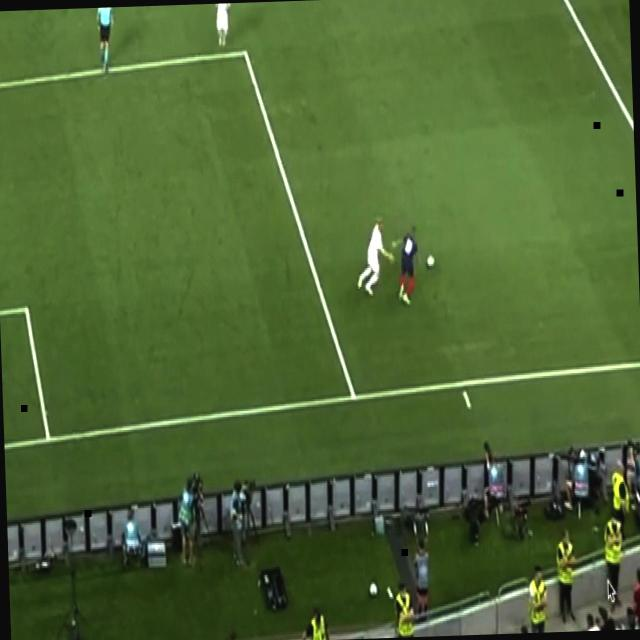ball: (426, 252, 434, 268)
player-white: (354, 213, 396, 299), (389, 220, 423, 308), (94, 7, 116, 77), (212, 3, 232, 49)
